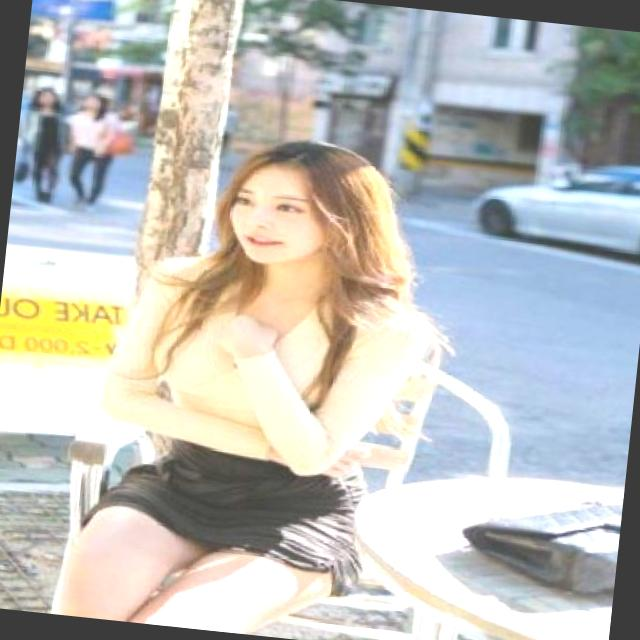Person: (59, 113, 436, 640)
